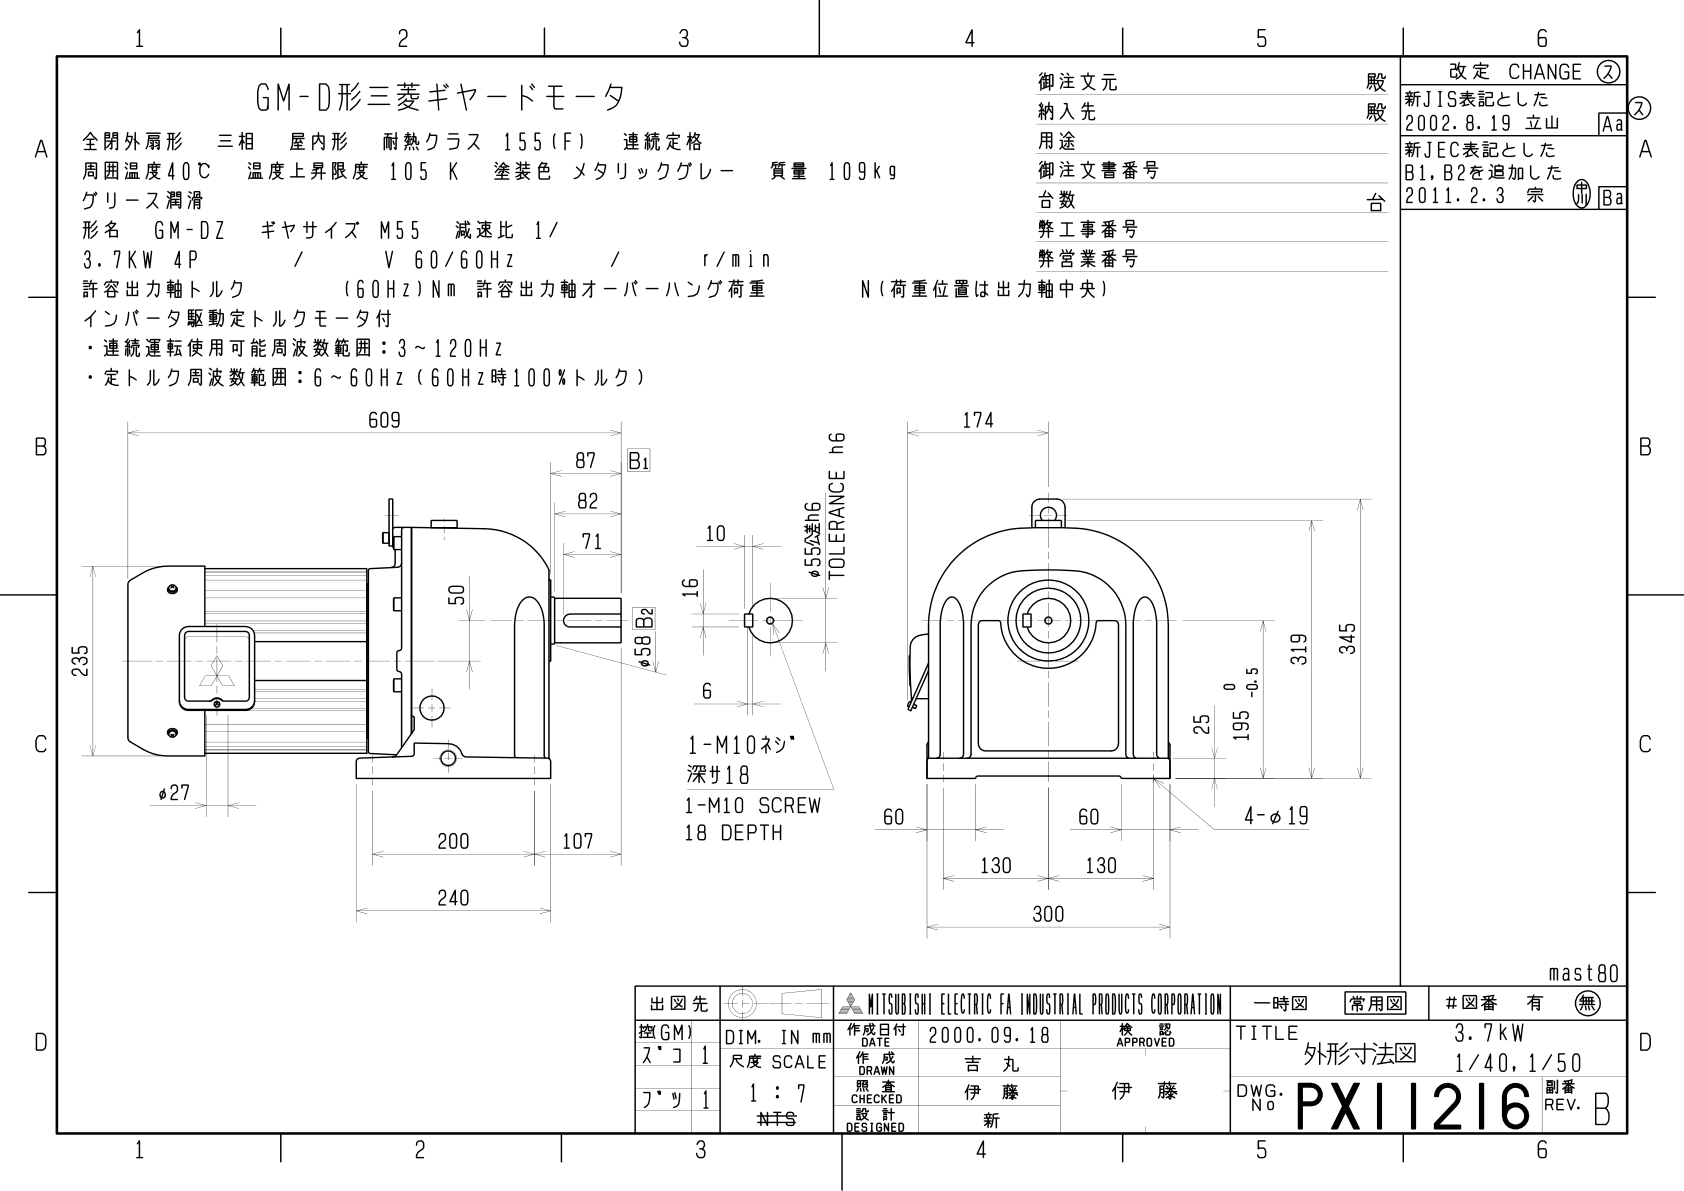GM_D_インバータ屋内_三相_脚: (5, 6, 1684, 1191)
